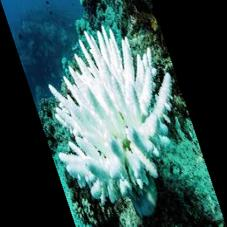bleached_corals: (25, 19, 193, 220)
